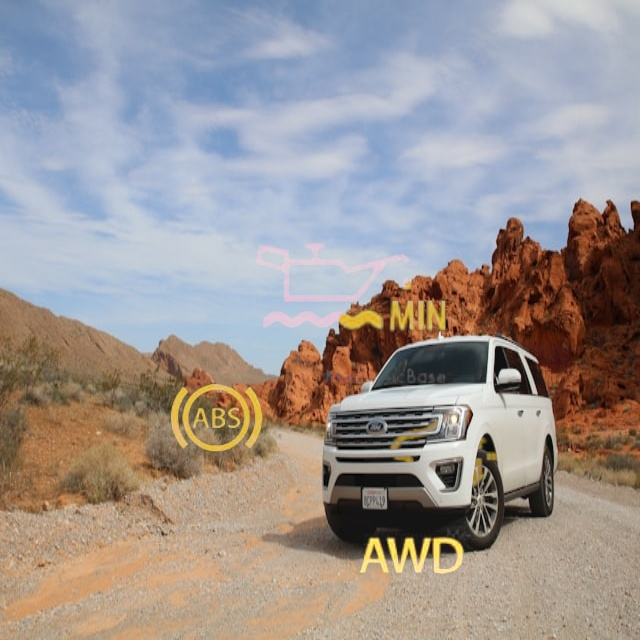symbol: (241, 181, 454, 394), (364, 344, 571, 551), (342, 489, 479, 626), (151, 354, 281, 484)
